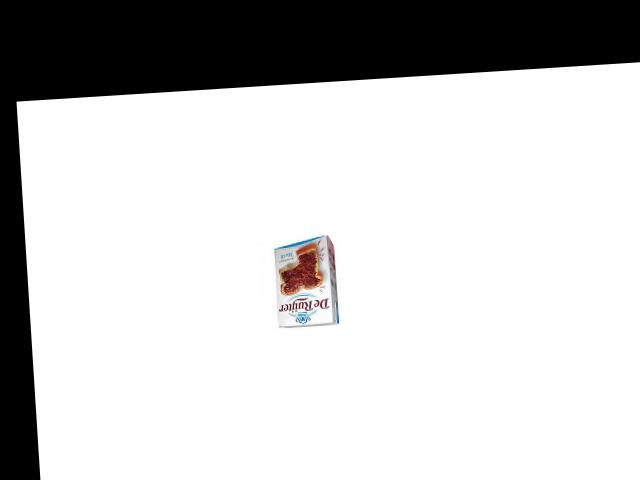chocolate: (264, 236, 347, 334)
